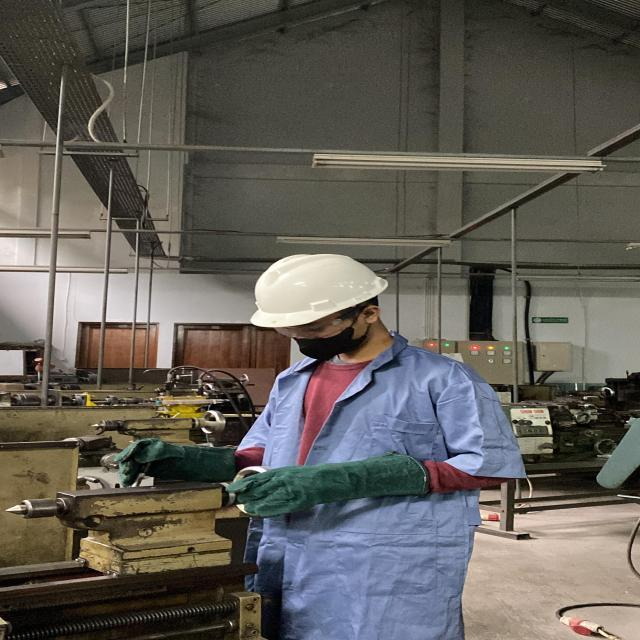face_mask: (271, 313, 355, 365)
glasses: (266, 309, 358, 340)
hand_glove: (225, 462, 320, 520), (105, 436, 188, 486)
head_helmet: (248, 252, 392, 327)
person: (107, 248, 532, 640)
